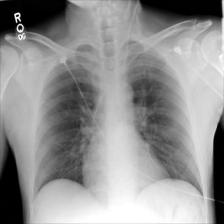normal: (29, 40, 207, 201)
